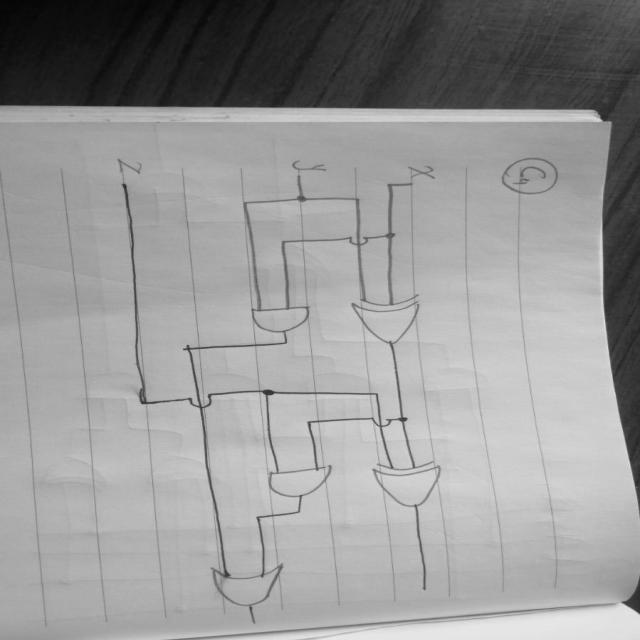AND: (252, 461, 342, 502), (242, 303, 327, 337)
OR: (206, 558, 308, 609)
XOR: (366, 452, 472, 514), (346, 292, 446, 349)
